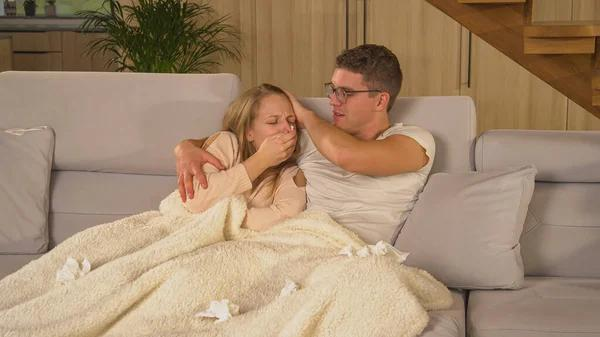blanket: (0, 186, 456, 337)
long sleeve shirt: (181, 126, 308, 232)
short sleeve shirt: (293, 121, 438, 249)
